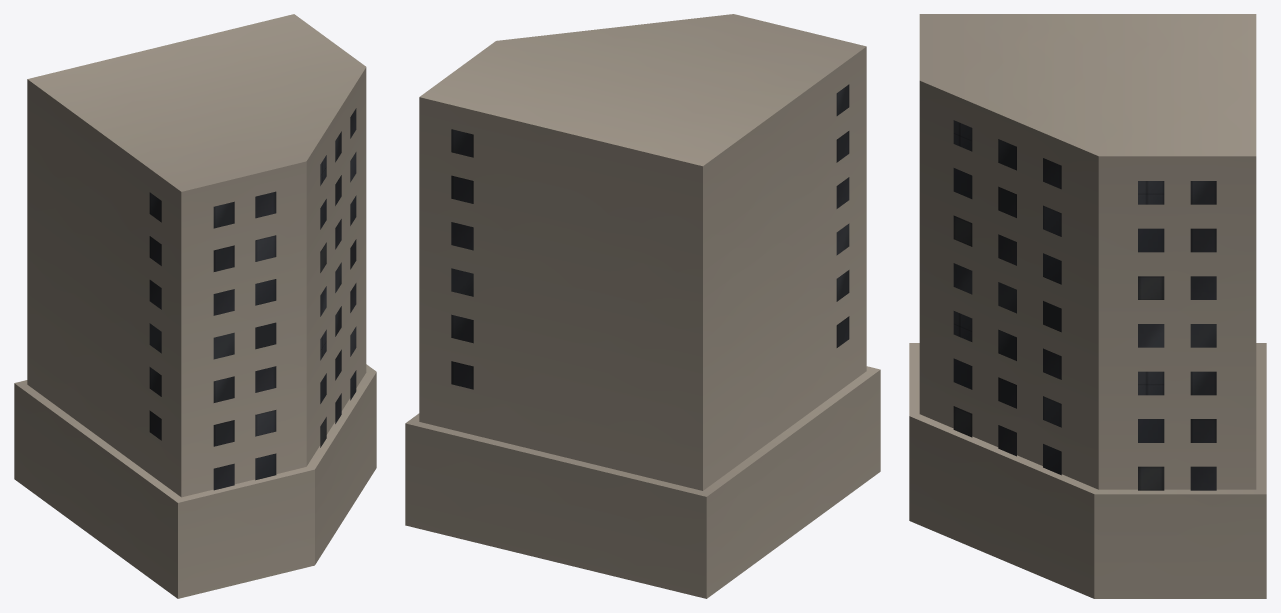
File: Bld_Building_G_low.fbx
3 renders of one model, left to right at view 1: azimuth 30°, elevation 25°; view 2: azimuth 150°, elevation 25°; view 3: azimuth 270°, elevation 25°, orthographic. The views are drawn at different scales.
Parts seen in each view (by area): view 1: Bld_Building_G_low; view 2: Bld_Building_G_low; view 3: Bld_Building_G_low.
Boxes of the visible parts, <box> form: Bld_Building_G_low: <box>14,14,376,598</box>; Bld_Building_G_low: <box>405,14,880,598</box>; Bld_Building_G_low: <box>909,14,1266,598</box>.
Size of the model in its own units: 1700 by 2300 by 1700.
